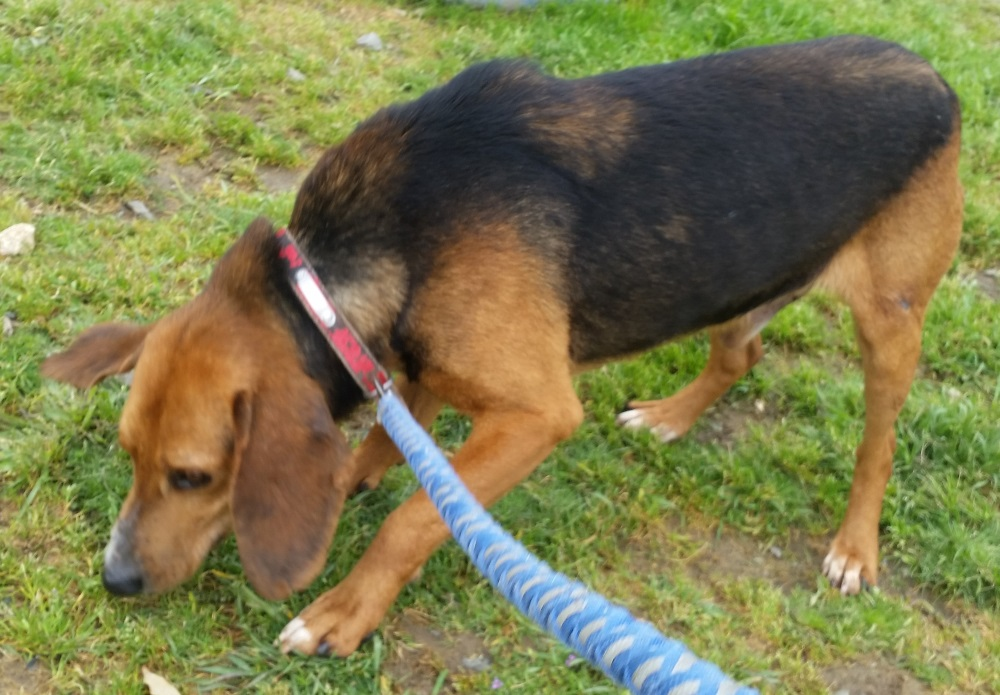dog: (56, 50, 974, 645)
